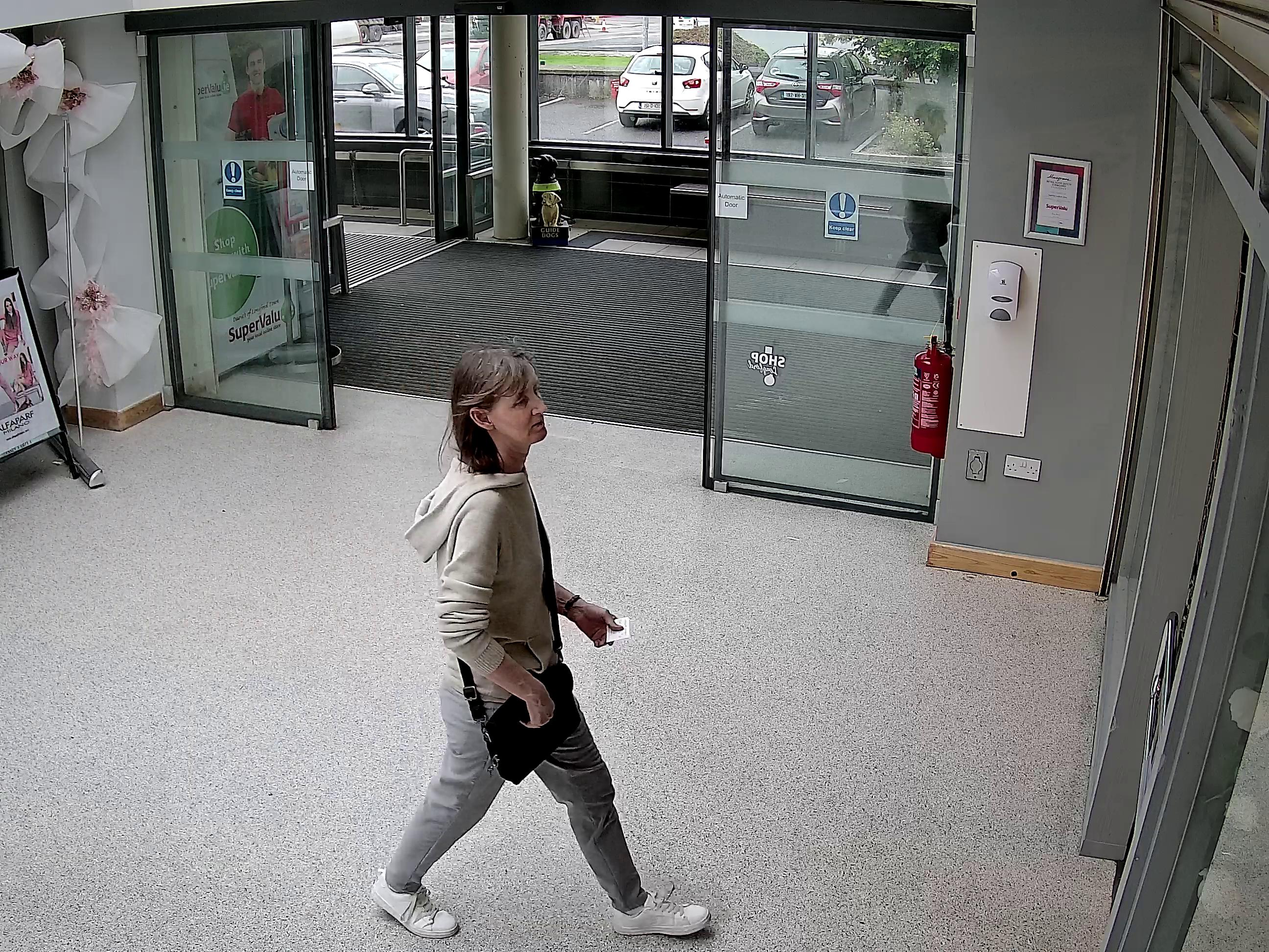backpack-or-handbag: (484, 655, 579, 787)
person: (372, 344, 711, 941)
person-with-backpack-handbag: (372, 341, 709, 942)
